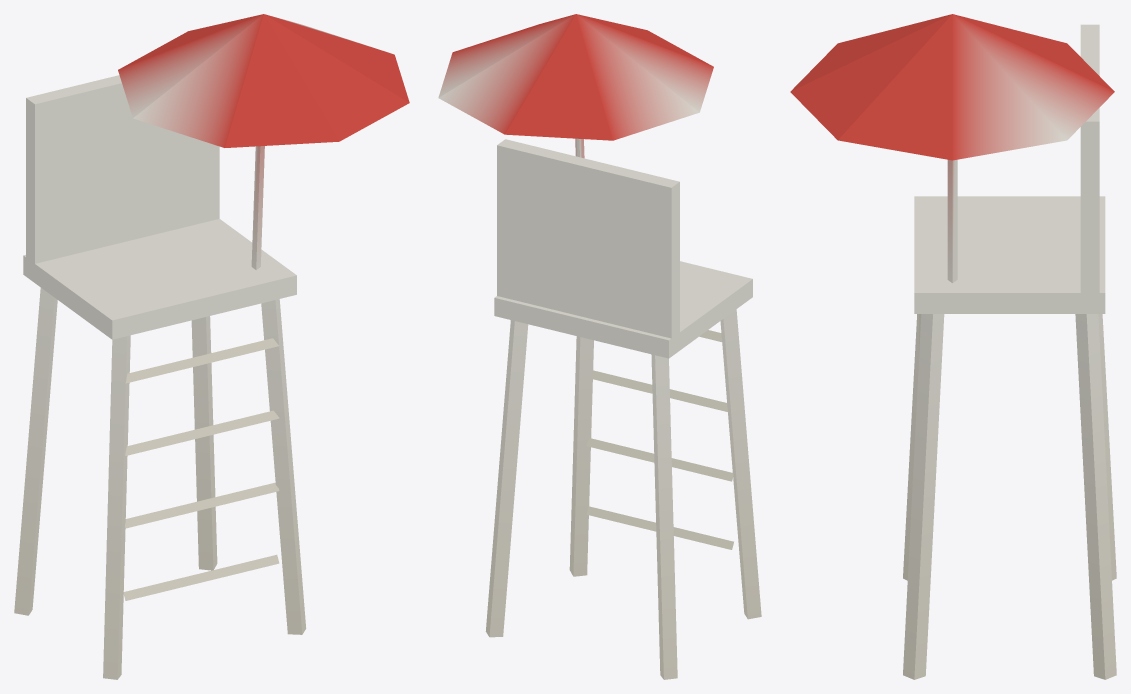
Rendered from lifeguard_0.glb.
3 views of the same model, side by side, from view 1: azimuth 30°, elevation 25°; view 2: azimuth 150°, elevation 25°; view 3: azimuth 270°, elevation 25° (orthographic). The views are drawn at different scales.
Visible parts, largest first — view 1: Lifeguard; view 2: Lifeguard; view 3: Lifeguard.
Boxes of the visible parts, x1,y1,x2,y2 form: Lifeguard: (14,14,409,679); Lifeguard: (438,14,761,679); Lifeguard: (790,14,1116,679).
Size of the model in its own units: 2.01 by 3.78 by 1.71.
